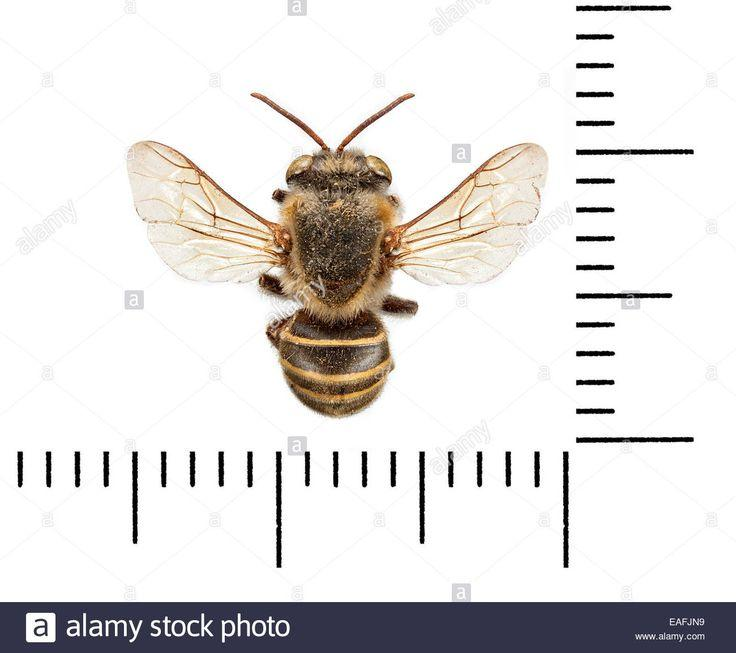Meliponula: (117, 76, 557, 431)
